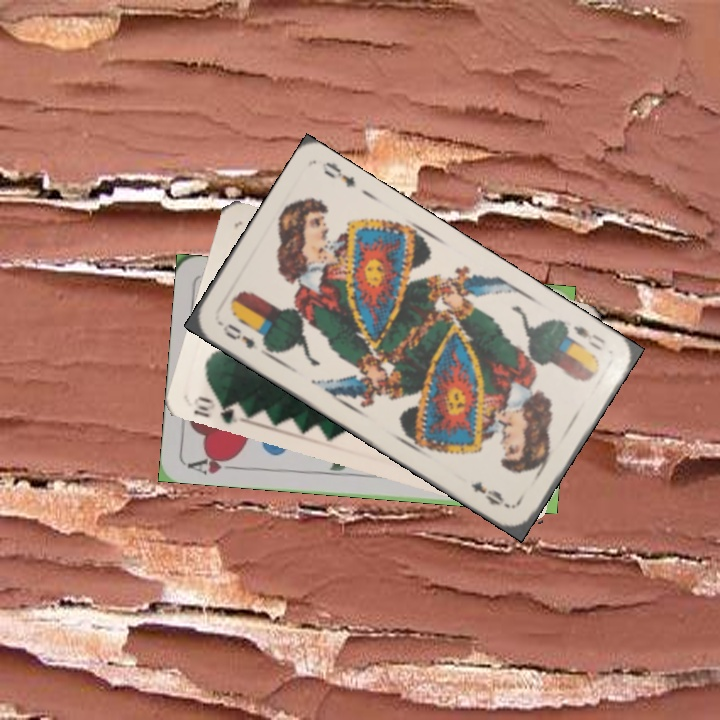EO: (215, 317, 270, 352), (569, 321, 608, 354)
G10: (190, 392, 248, 426)
HA: (184, 449, 243, 477)
